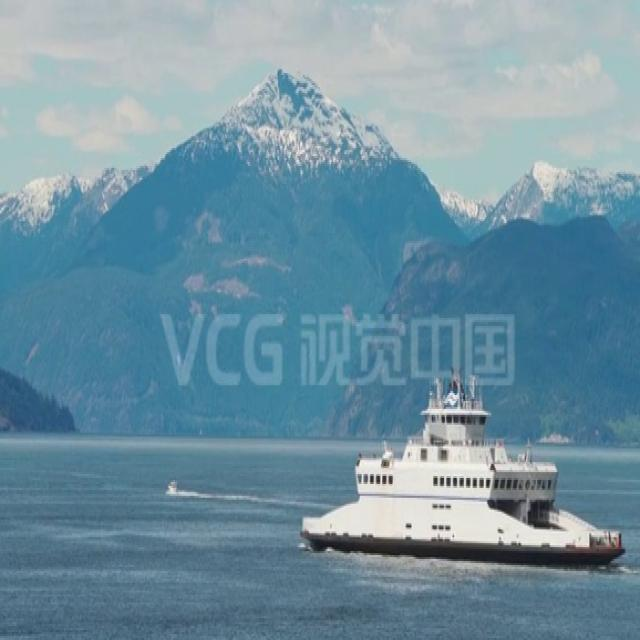passenger ship: (302, 368, 617, 561)
